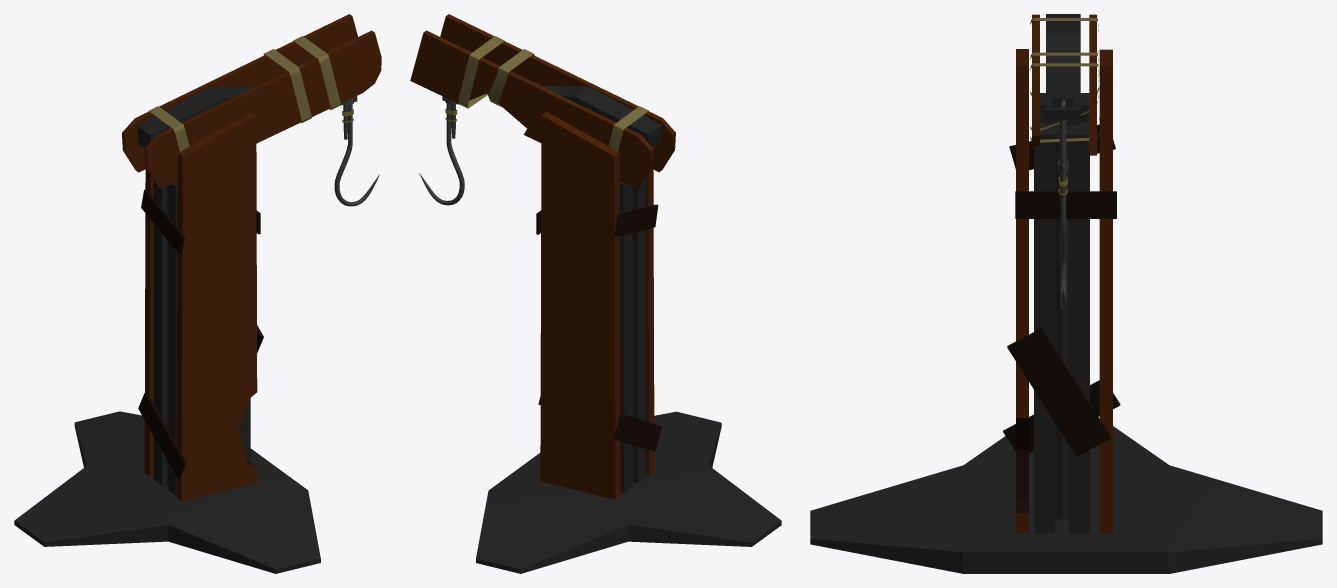
The picture shows the model from 3 angles, left to right: view 1: azimuth 30°, elevation 25°; view 2: azimuth 150°, elevation 25°; view 3: azimuth 270°, elevation 25°; orthographic projection. The views are drawn at different scales.
Parts seen in each view (by area): view 1: pCube37 (×5); view 2: pCube37 (×5); view 3: pCube37 (×5).
Part boxes in pixels (box(x1,y1,x2,y2)): pCube37 (×5): box(14, 14, 381, 573); pCube37 (×5): box(410, 14, 781, 573); pCube37 (×5): box(810, 14, 1322, 573).
Size of the model in its own units: 1.69 by 2 by 1.69.
